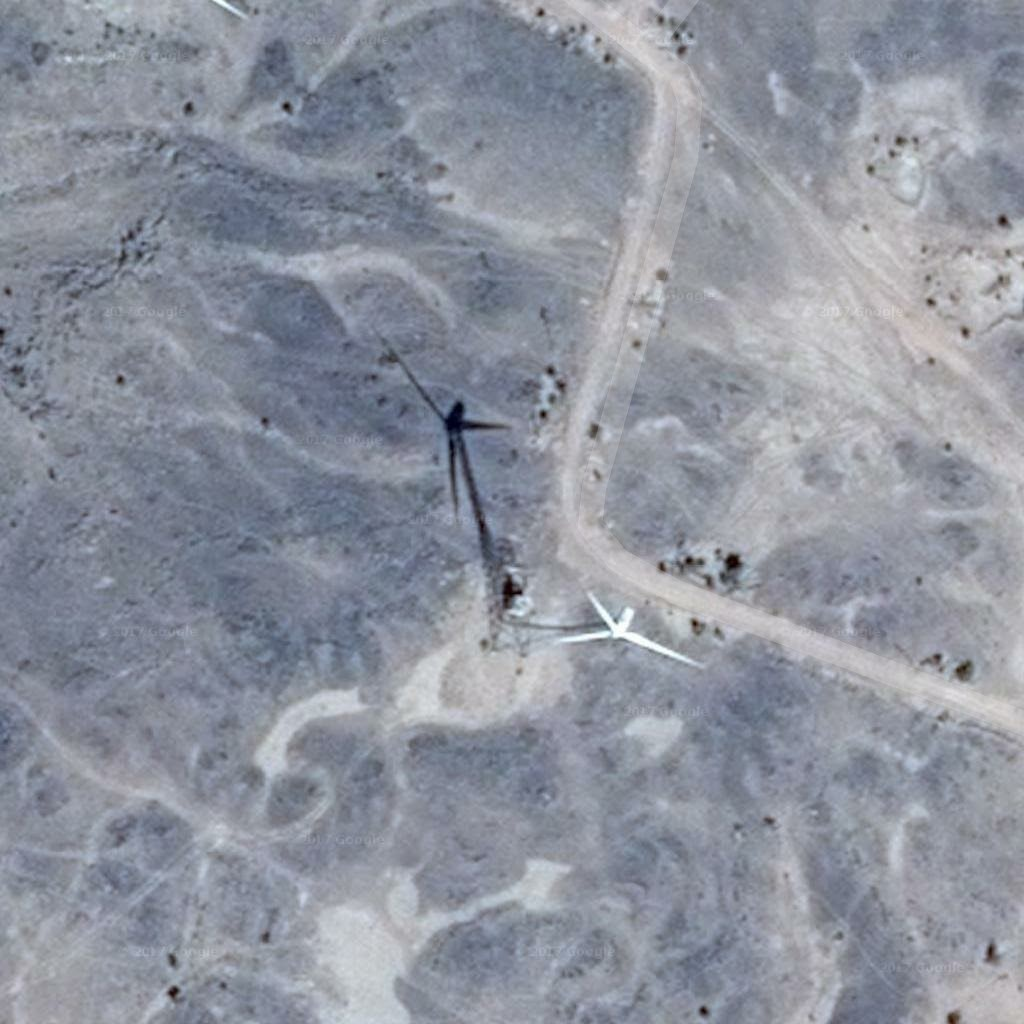Windmill: (373, 322, 540, 627)
